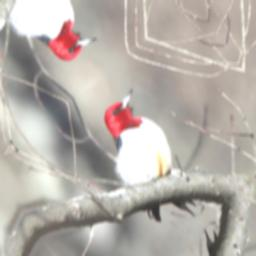Woodpecker: (80, 85, 218, 246)
